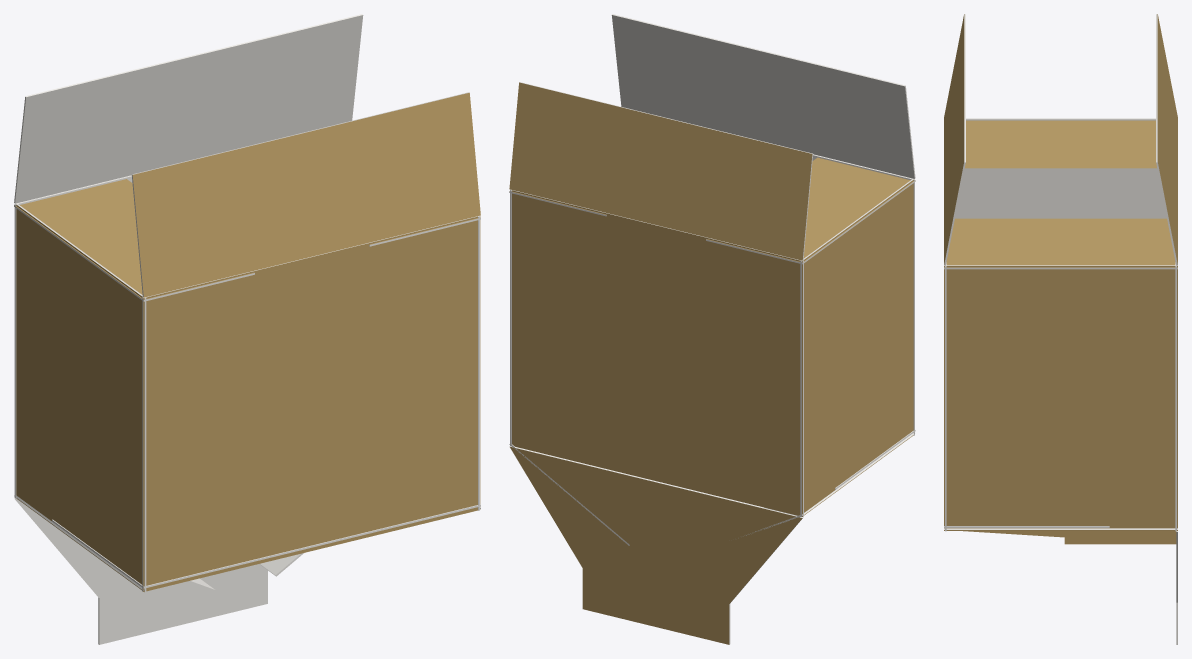
3 renders of one model, left to right at view 1: azimuth 30°, elevation 25°; view 2: azimuth 150°, elevation 25°; view 3: azimuth 270°, elevation 25°, orthographic. The views are drawn at different scales.
Parts seen in each view (by area): view 1: Packive_Box_fefco0216; view 2: Packive_Box_fefco0216; view 3: Packive_Box_fefco0216.
Boxes of the visible parts, x1=… form: Packive_Box_fefco0216: x1=14, y1=14, x2=480, y2=644; Packive_Box_fefco0216: x1=509, y1=14, x2=915, y2=644; Packive_Box_fefco0216: x1=944, y1=14, x2=1177, y2=644.
Bounding box in the file's own units: 0.3 × 0.4905 × 0.2.
26 materials, 13 textured.
